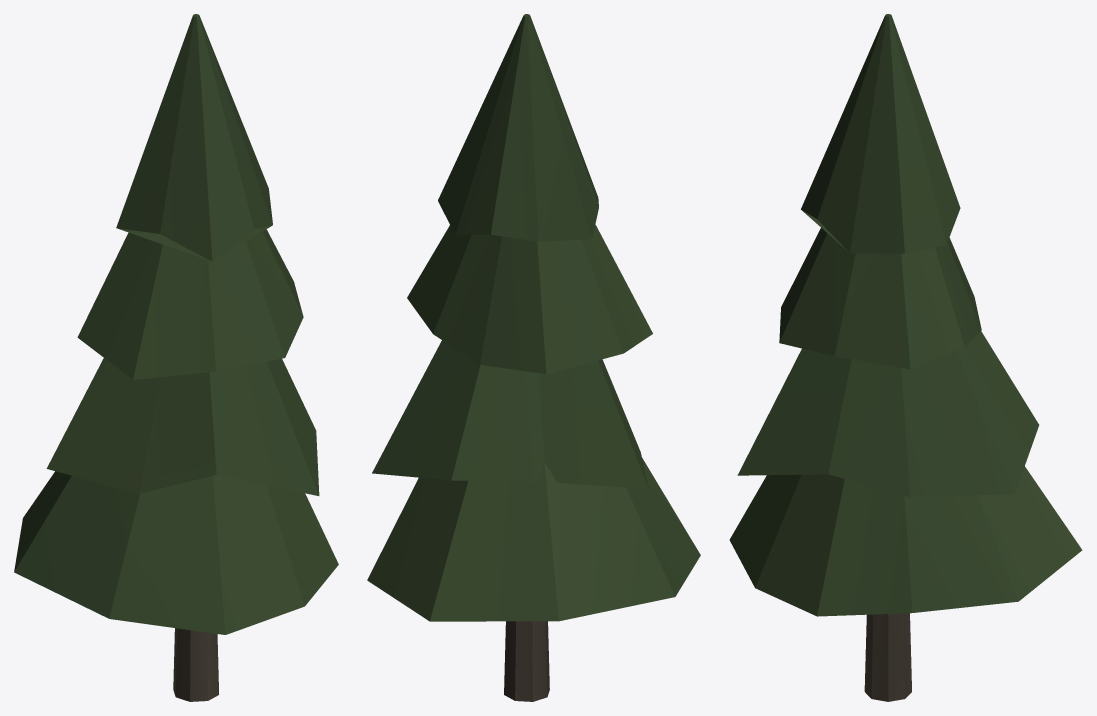
File: tree_pine_04.glb
The picture shows the model from 3 angles, left to right: view 1: azimuth 30°, elevation 25°; view 2: azimuth 150°, elevation 25°; view 3: azimuth 270°, elevation 25°; orthographic projection.
Visible parts, largest first — view 1: tree_pine_04; view 2: tree_pine_04; view 3: tree_pine_04.
Part boxes in pixels (x1,y1,x2,y2): tree_pine_04: (14, 14, 338, 701); tree_pine_04: (367, 14, 700, 701); tree_pine_04: (729, 14, 1082, 701).
Bounding box in the file's own units: 4.32 × 9.85 × 4.66.
